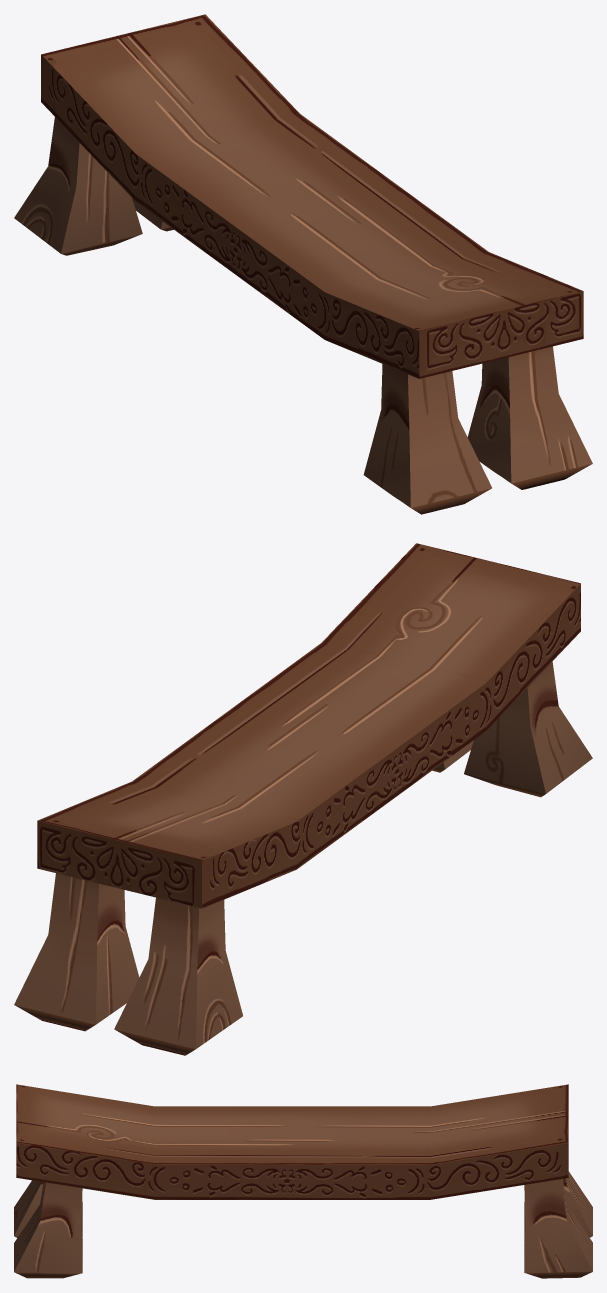
The model's file is PVB export lang bankje.fbx.
3 renders of one model, top to bottom at view 1: azimuth 30°, elevation 25°; view 2: azimuth 150°, elevation 25°; view 3: azimuth 270°, elevation 25°, orthographic. The views are drawn at different scales.
Parts seen in each view (by area): view 1: base, poot_links_achter, poot_links_voor, poot_rechts_achter; view 2: base, poot_rechts_achter, poot_rechts_voor, poot_links_achter; view 3: base, poot_rechts_voor, poot_links_voor, poot_rechts_achter, poot_links_achter.
Part boxes in pixels (bbox=[...]): base: bbox=[41, 14, 583, 378]; poot_links_achter: bbox=[363, 364, 491, 514]; poot_links_voor: bbox=[467, 346, 592, 489]; poot_rechts_achter: bbox=[14, 117, 142, 255]; base: bbox=[37, 543, 580, 908]; poot_rechts_achter: bbox=[114, 897, 242, 1055]; poot_rechts_voor: bbox=[14, 873, 139, 1031]; poot_links_achter: bbox=[464, 661, 592, 797]; base: bbox=[16, 1084, 568, 1199]; poot_rechts_voor: bbox=[524, 1179, 592, 1278]; poot_links_voor: bbox=[14, 1182, 82, 1278]; poot_rechts_achter: bbox=[524, 1171, 592, 1237]; poot_links_achter: bbox=[14, 1180, 82, 1237].
Size of the model in its own units: 1.12 by 1.12 by 4.21.
Materials: 1 (1 with a texture image).
